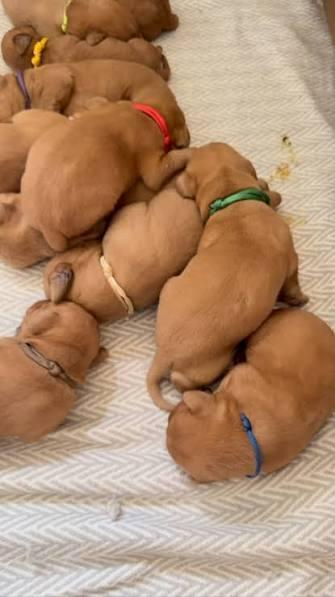puppy-dog: (146, 142, 309, 413), (165, 307, 335, 484), (19, 100, 189, 253), (41, 175, 211, 324), (0, 58, 190, 149), (0, 298, 104, 445), (0, 109, 69, 267), (1, 26, 170, 80), (0, 0, 180, 44)
